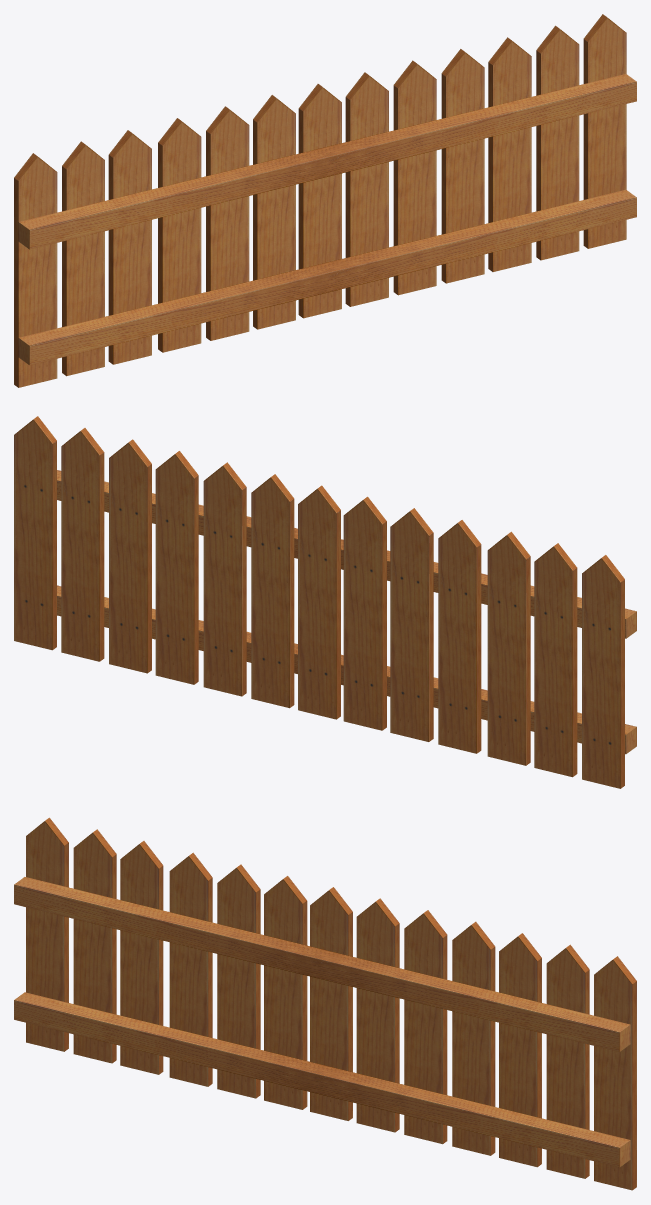
Rendered from play_fence.FBX.
3 views of the same model, one above another, from view 1: azimuth 30°, elevation 25°; view 2: azimuth 150°, elevation 25°; view 3: azimuth 330°, elevation 25° (orthographic).
Parts seen in each view (by area): view 1: Box001; view 2: Box001; view 3: Box001.
Boxes of the visible parts, left/top/right/bottom form: Box001: left=14, top=14, right=636, bottom=387; Box001: left=14, top=416, right=636, bottom=788; Box001: left=14, top=817, right=636, bottom=1190.
Size of the model in its own units: 134 by 47.7 by 6.1.
